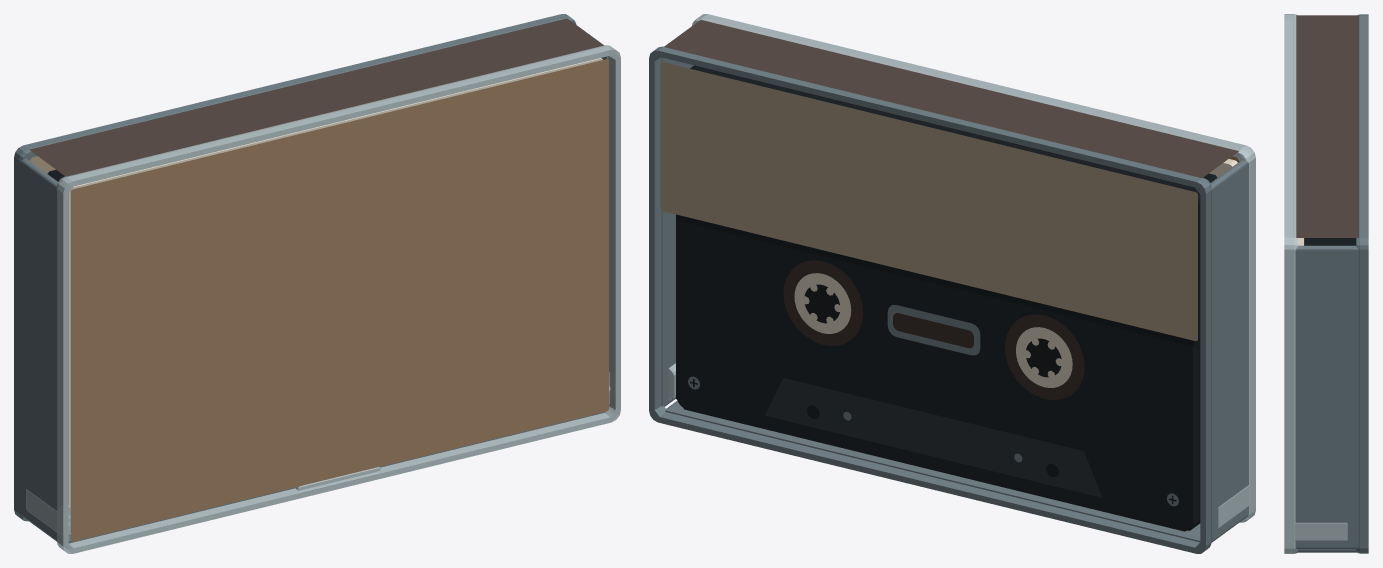
Rendered from cassette.glb.
The picture shows the model from 3 angles, left to right: view 1: azimuth 30°, elevation 25°; view 2: azimuth 150°, elevation 25°; view 3: azimuth 270°, elevation 25°; orthographic projection. The views are drawn at different scales.
Visible parts, largest first — view 1: Detail_cassette, Shelf_cassette; view 2: Detail_cassette, Shelf_cassette; view 3: Detail_cassette, Shelf_cassette.
Boxes of the visible parts, x1,y1,x2,y2 form: Detail_cassette: (14,14,620,553); Shelf_cassette: (20,46,620,553); Detail_cassette: (649,14,1255,553); Shelf_cassette: (650,14,1255,552); Detail_cassette: (1284,14,1368,553); Shelf_cassette: (1284,15,1358,552).
Size of the model in its own units: 0.109 by 0.0696 by 0.0168.
